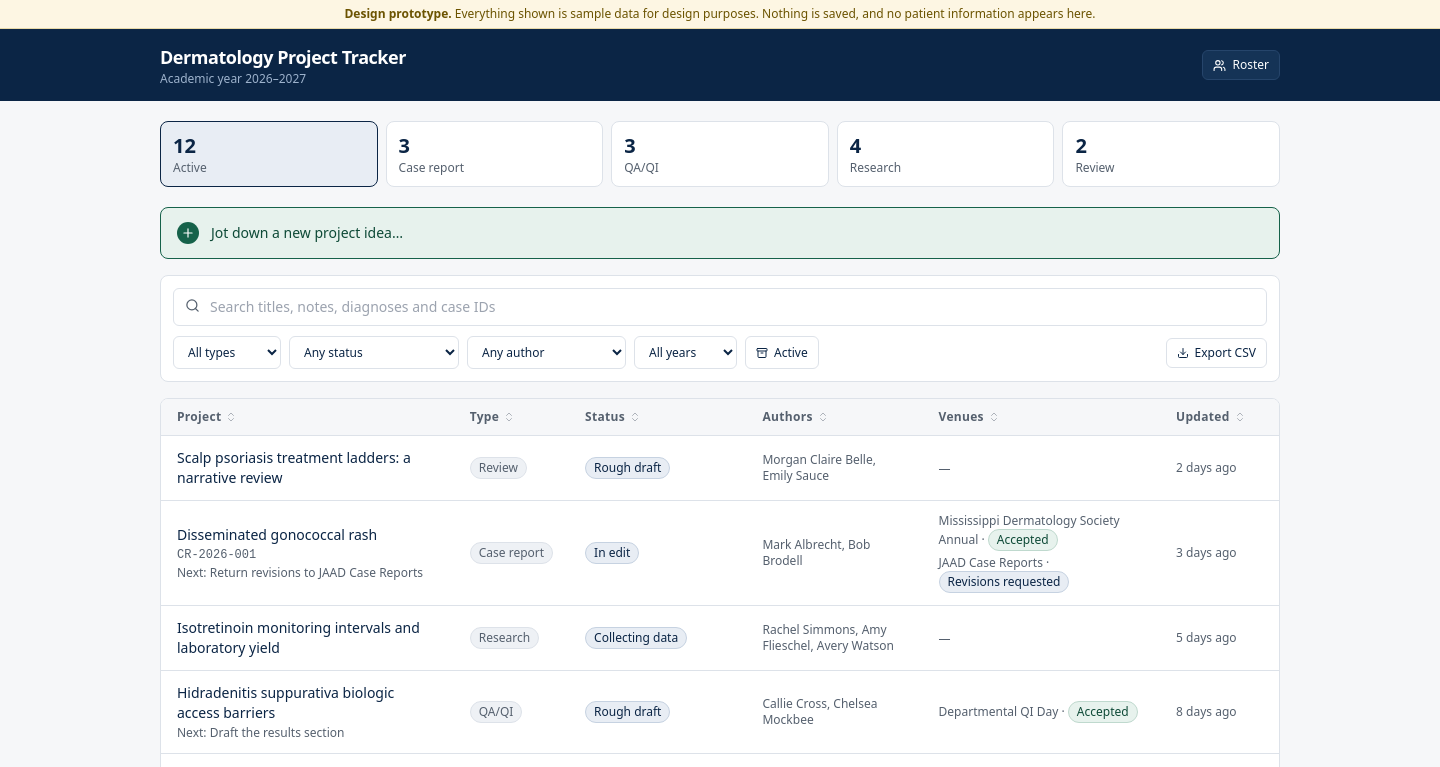
Test: the roster links through to the table › filters to archived work when the archived count is clicked
Click the button "Roster" at (1241,65), box x1=1202 y1=50 x2=1280 y2=80
(page scrolled)
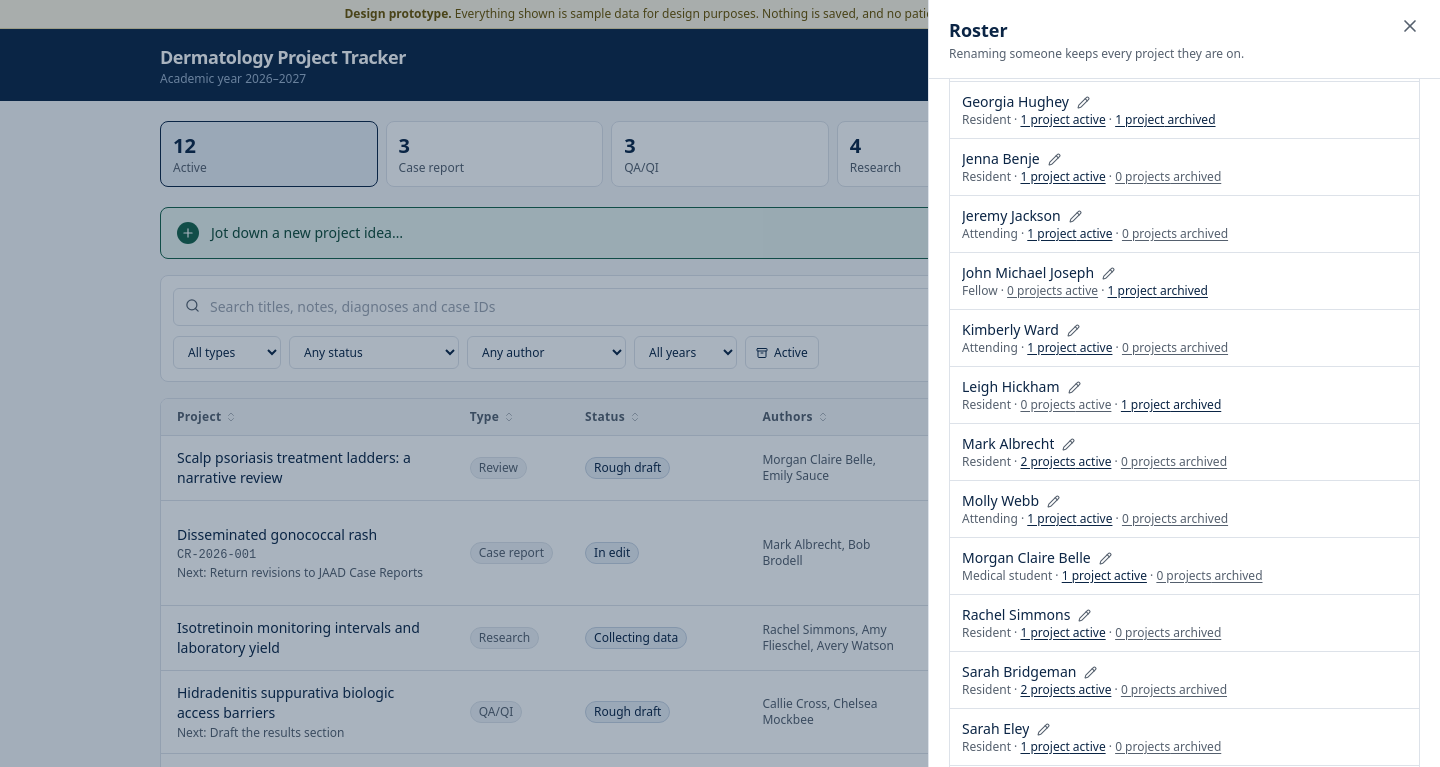
Click the 3rd button "1 project archived" at (1171,405), box x1=1121 y1=397 x2=1221 y2=413
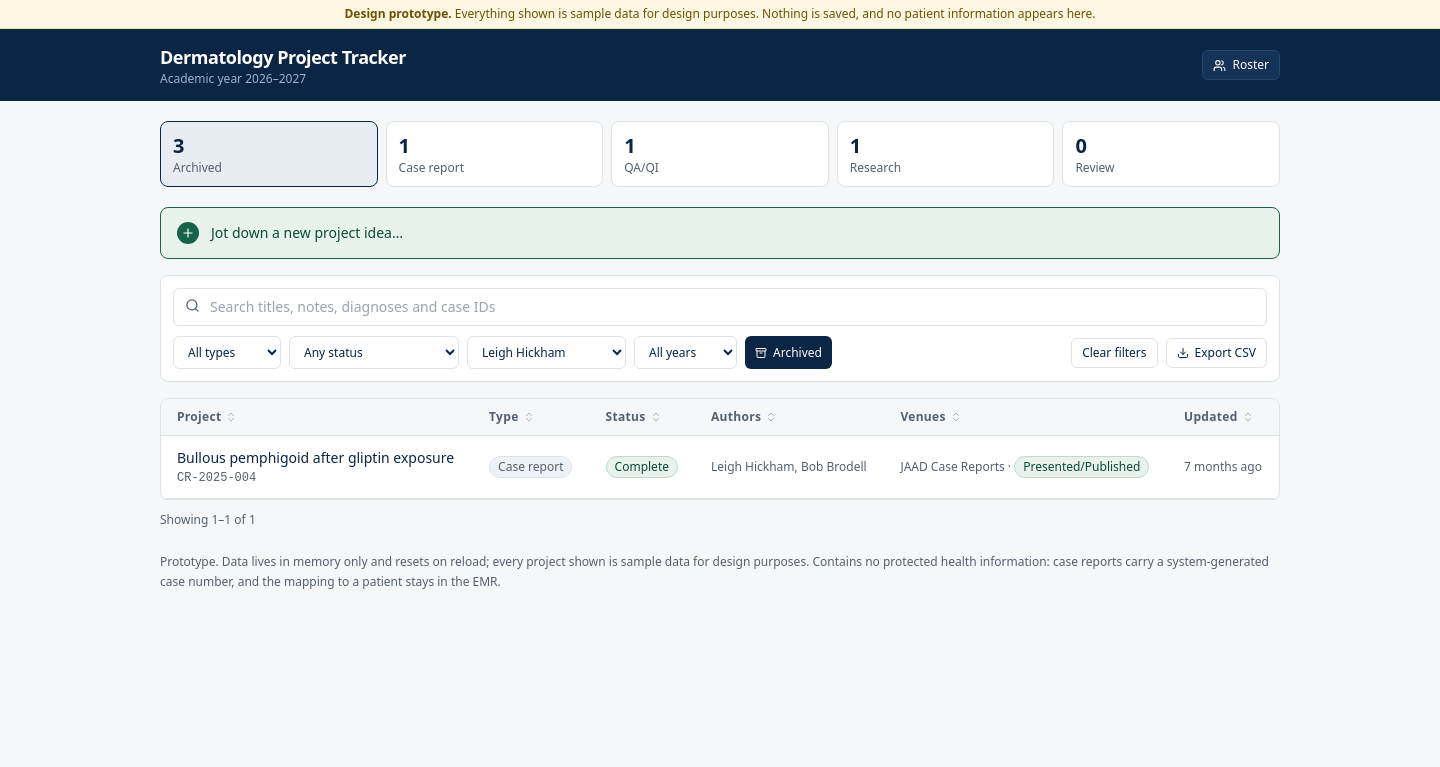
Now the button with aria-label "Showing archived projects" is shown, box x1=745 y1=336 x2=832 y2=369
